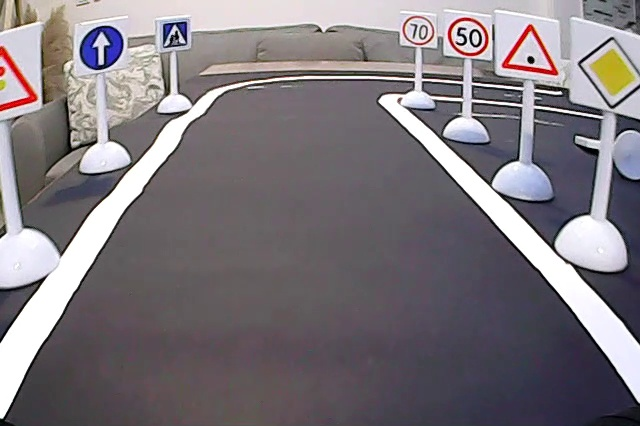green light: (500, 18, 563, 81)
red light: (1, 35, 41, 117)
school crossing: (160, 22, 189, 51)
speed limit 50: (445, 14, 491, 58)
speed limit 70: (400, 14, 438, 47)
